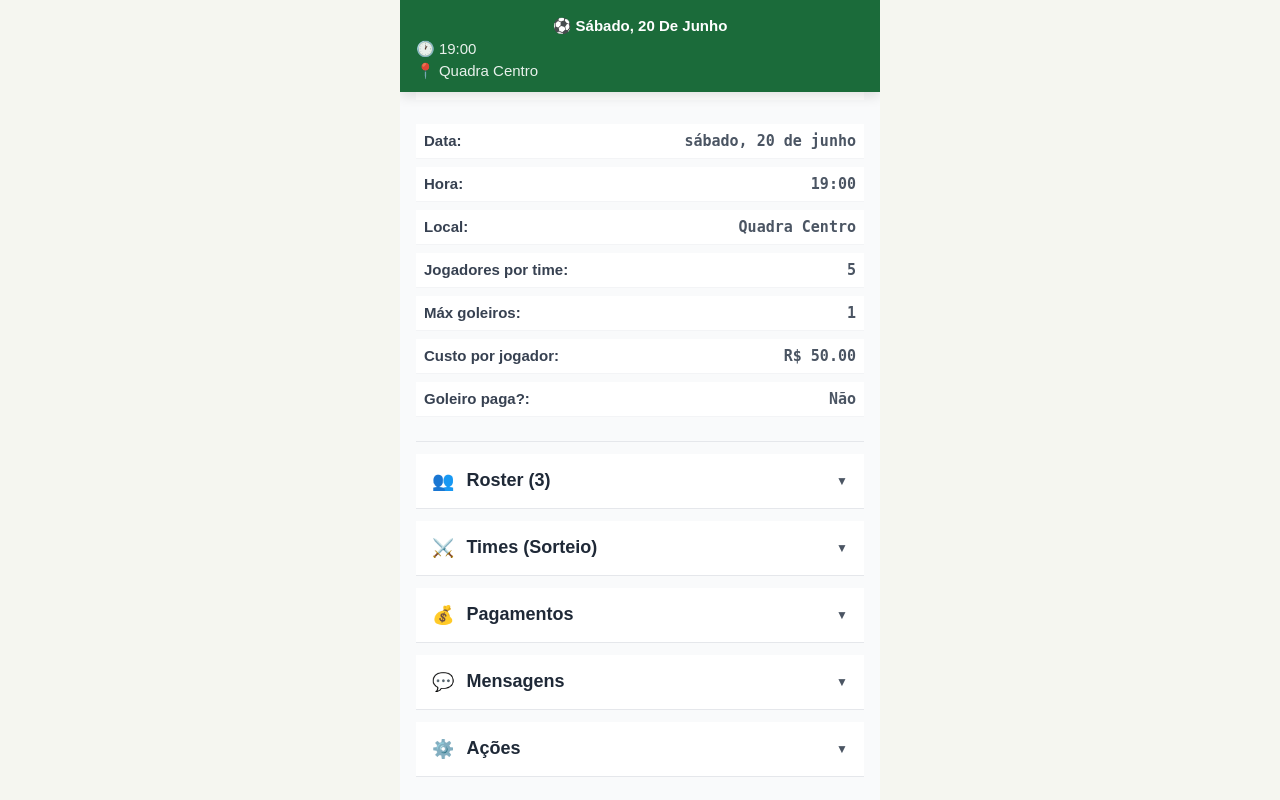
Test: PeladaScreen › Actions accordion › delete button › opens delete confirmation sheet when Apagar is clicked
(page scrolled)
Click the button "⚙️ Ações ▼": (493, 748) [416,722,864,776]
(page scrolled)
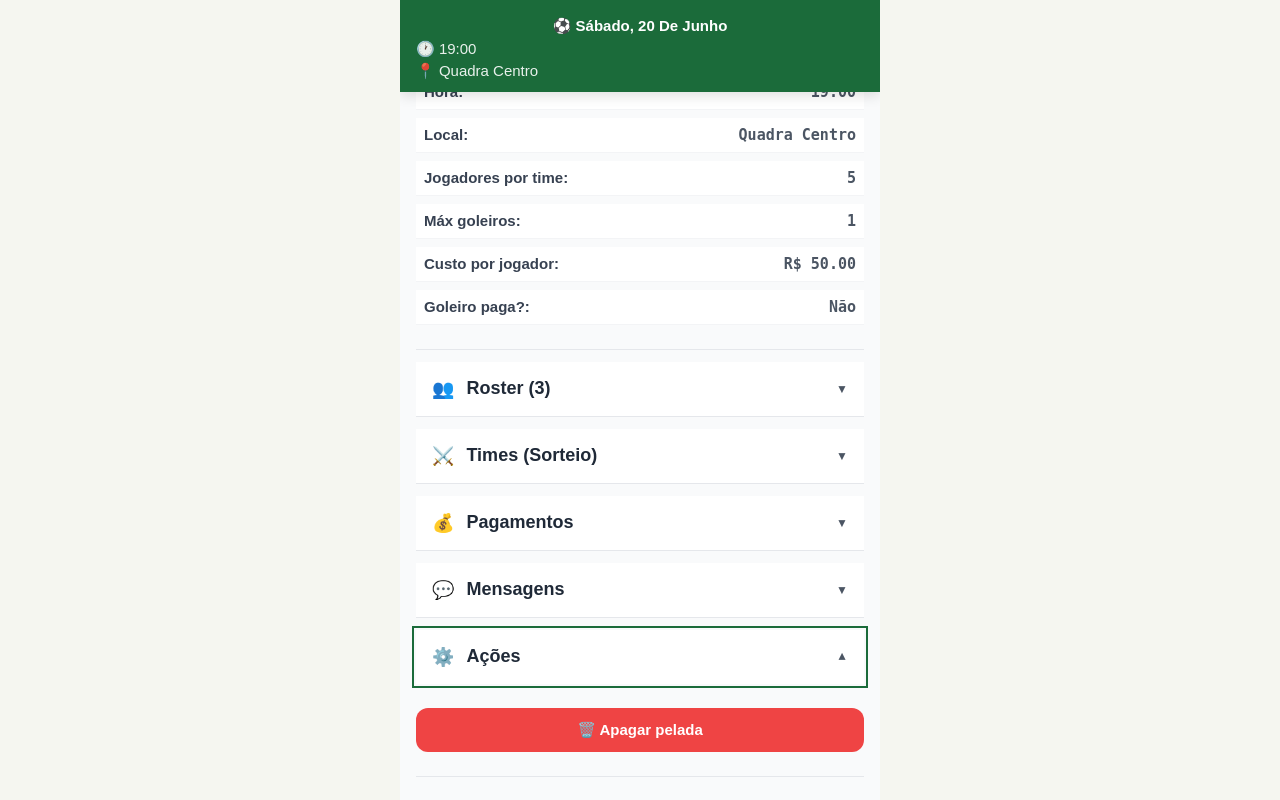
Click the button "🗑️ Apagar pelada": (640, 730) [416,708,864,752]
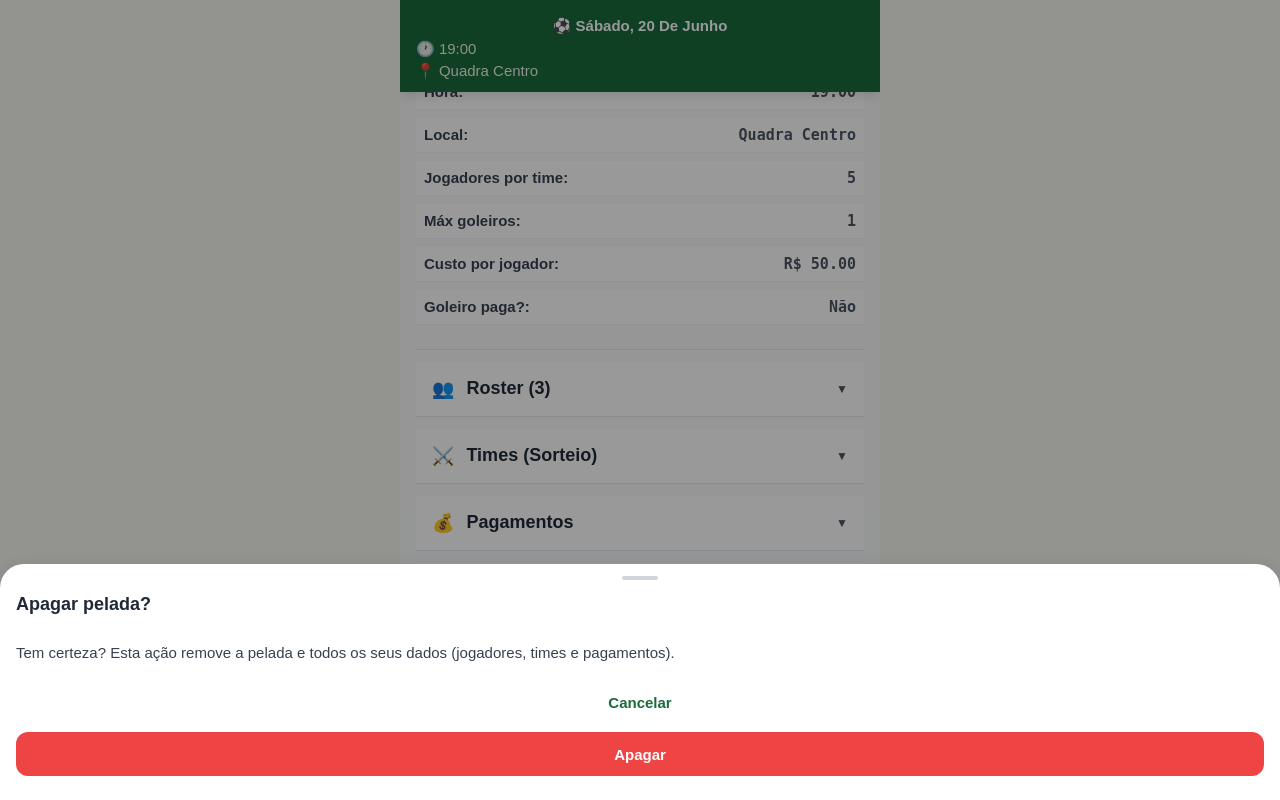
expect the heading "Apagar pelada?" is shown: met, box [16,594,151,614]
